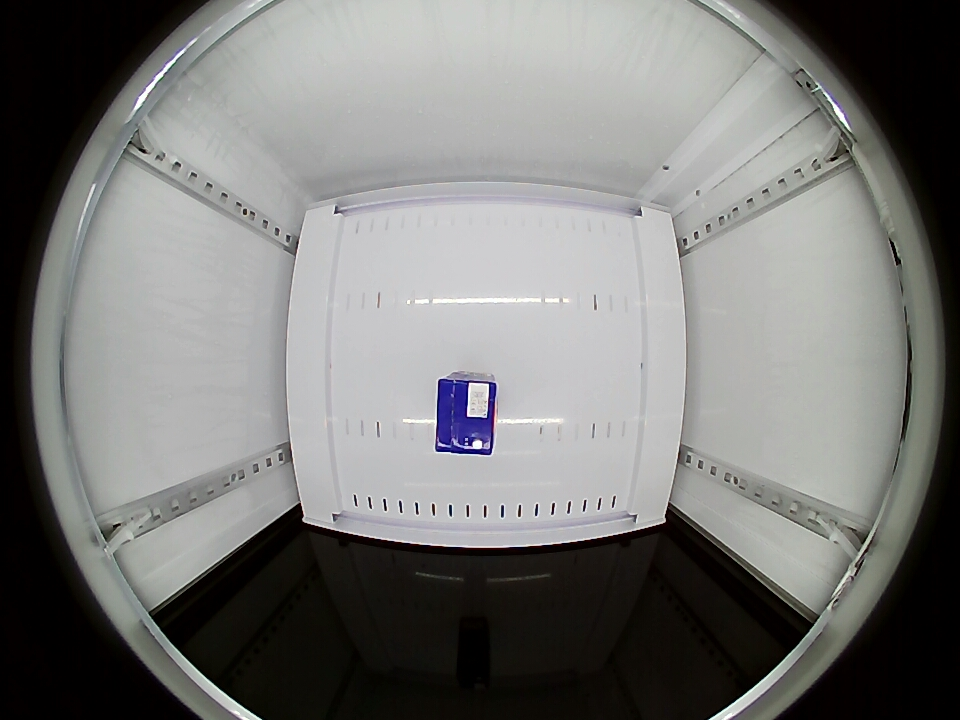bingqilinniunai: (436, 374, 497, 455)
